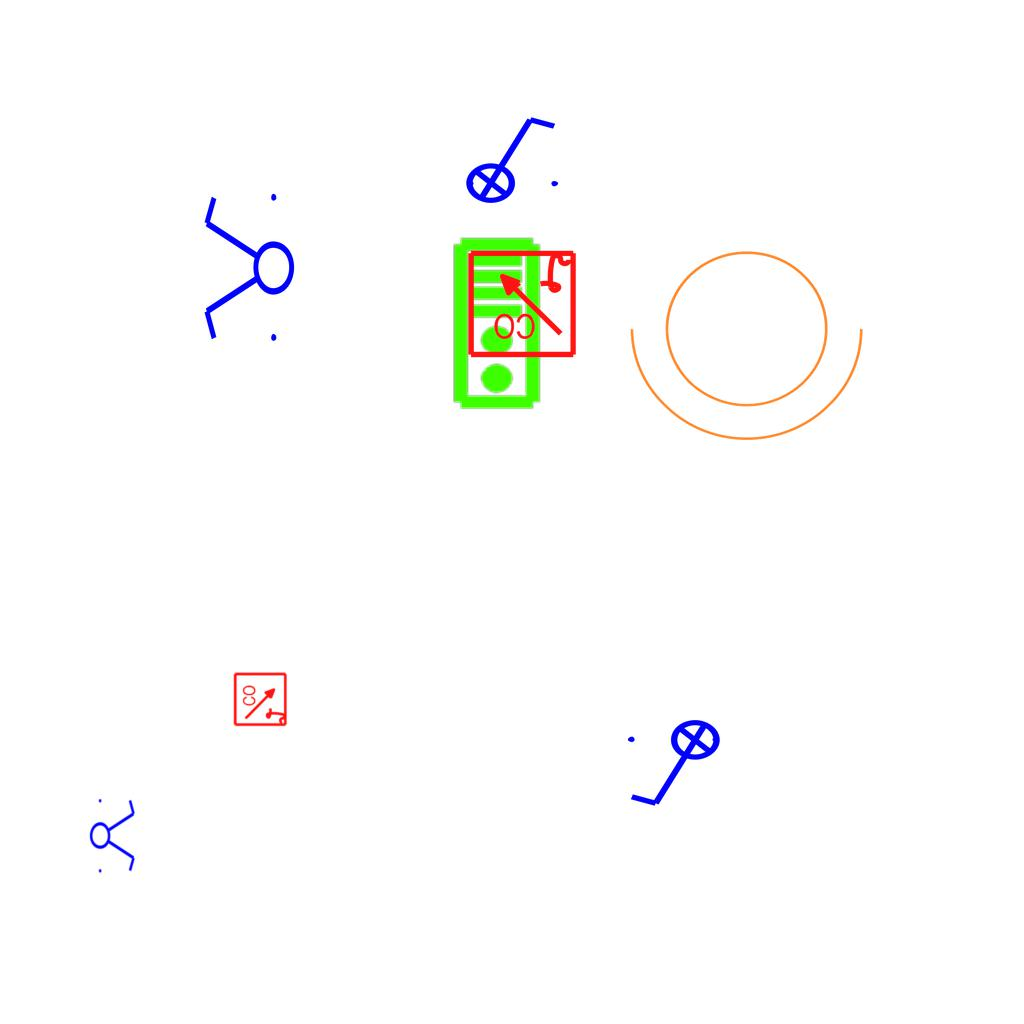Ausschalter_beleuchtet: (452, 109, 564, 205), (622, 718, 734, 814)
Gegensprechanlage_mit_Video: (451, 236, 546, 412)
ROA_Rauchmelder_optisch_mit_Signalgeber_(Sockelsirene): (465, 246, 578, 359), (233, 671, 289, 727)
Scheinwerfer_fuer_Alarmbeleuchtung: (621, 226, 885, 451)
Serienschalter: (200, 185, 296, 353), (89, 793, 137, 877)
